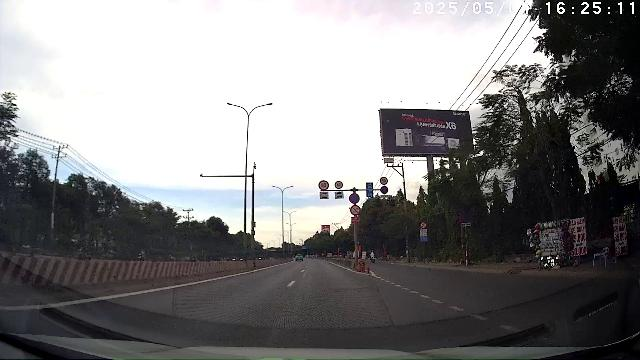127-toc-do-toi-da-50: (380, 176, 388, 184)
127-toc-do-toi-da-60: (334, 180, 344, 188)
127-toc-do-toi-da-80: (319, 180, 329, 190)
130-cam-dung-va-do-xe: (348, 193, 359, 203)
